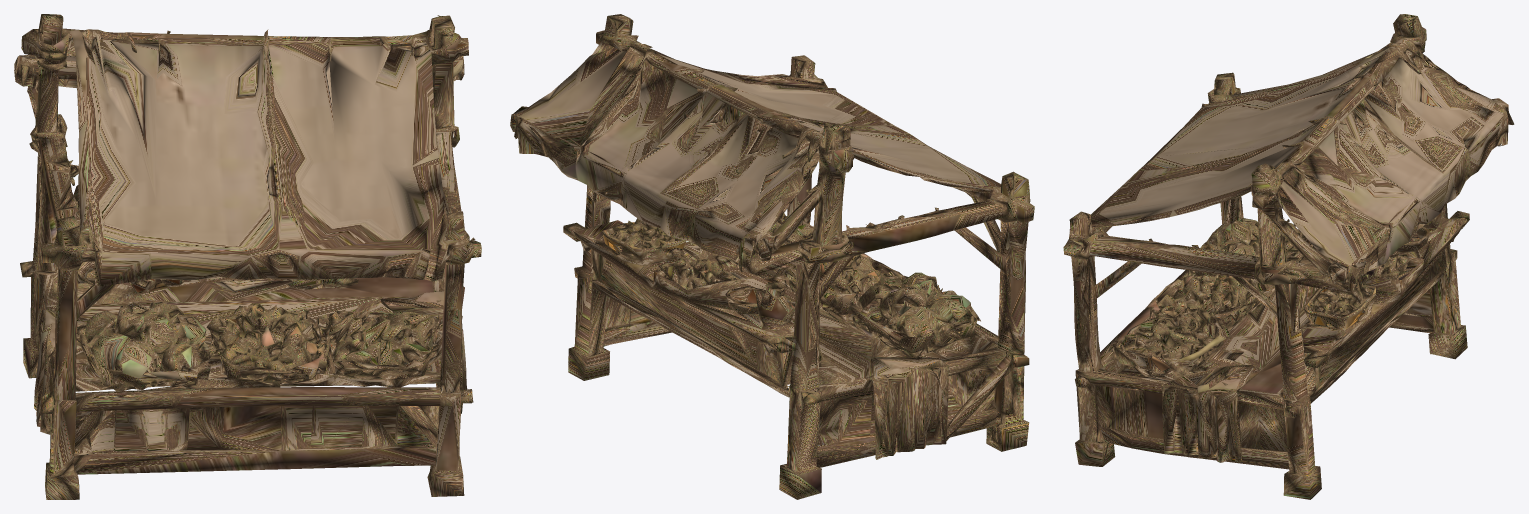
The model's file is vegetable-market-stall-pixal3d.glb.
3 views of the same model, side by side, from view 1: azimuth 30°, elevation 25°; view 2: azimuth 150°, elevation 25°; view 3: azimuth 270°, elevation 25° (orthographic). The views are drawn at different scales.
Visible parts, largest first — view 1: geometry_0; view 2: geometry_0; view 3: geometry_0.
Part boxes in pixels (x1,y1,x2,y2): geometry_0: (14,14,481,499); geometry_0: (510,14,1034,499); geometry_0: (1063,14,1514,499).
Bounding box in the file's own units: 3.57 × 2.79 × 3.25.
Materials: 1 (1 with a texture image).
